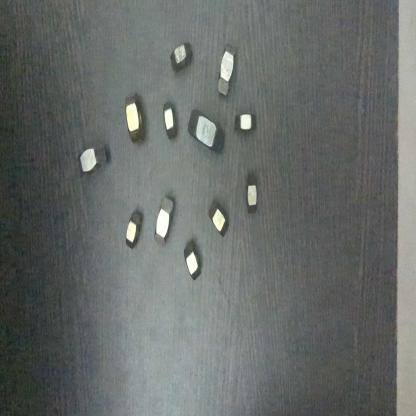NUTS: (183, 104, 231, 156), (120, 89, 151, 155), (212, 34, 238, 109), (152, 185, 177, 261), (75, 136, 112, 184), (180, 234, 208, 290), (122, 204, 148, 262), (206, 194, 234, 242), (168, 39, 196, 78), (240, 167, 263, 214), (160, 94, 178, 143), (234, 106, 260, 138)
